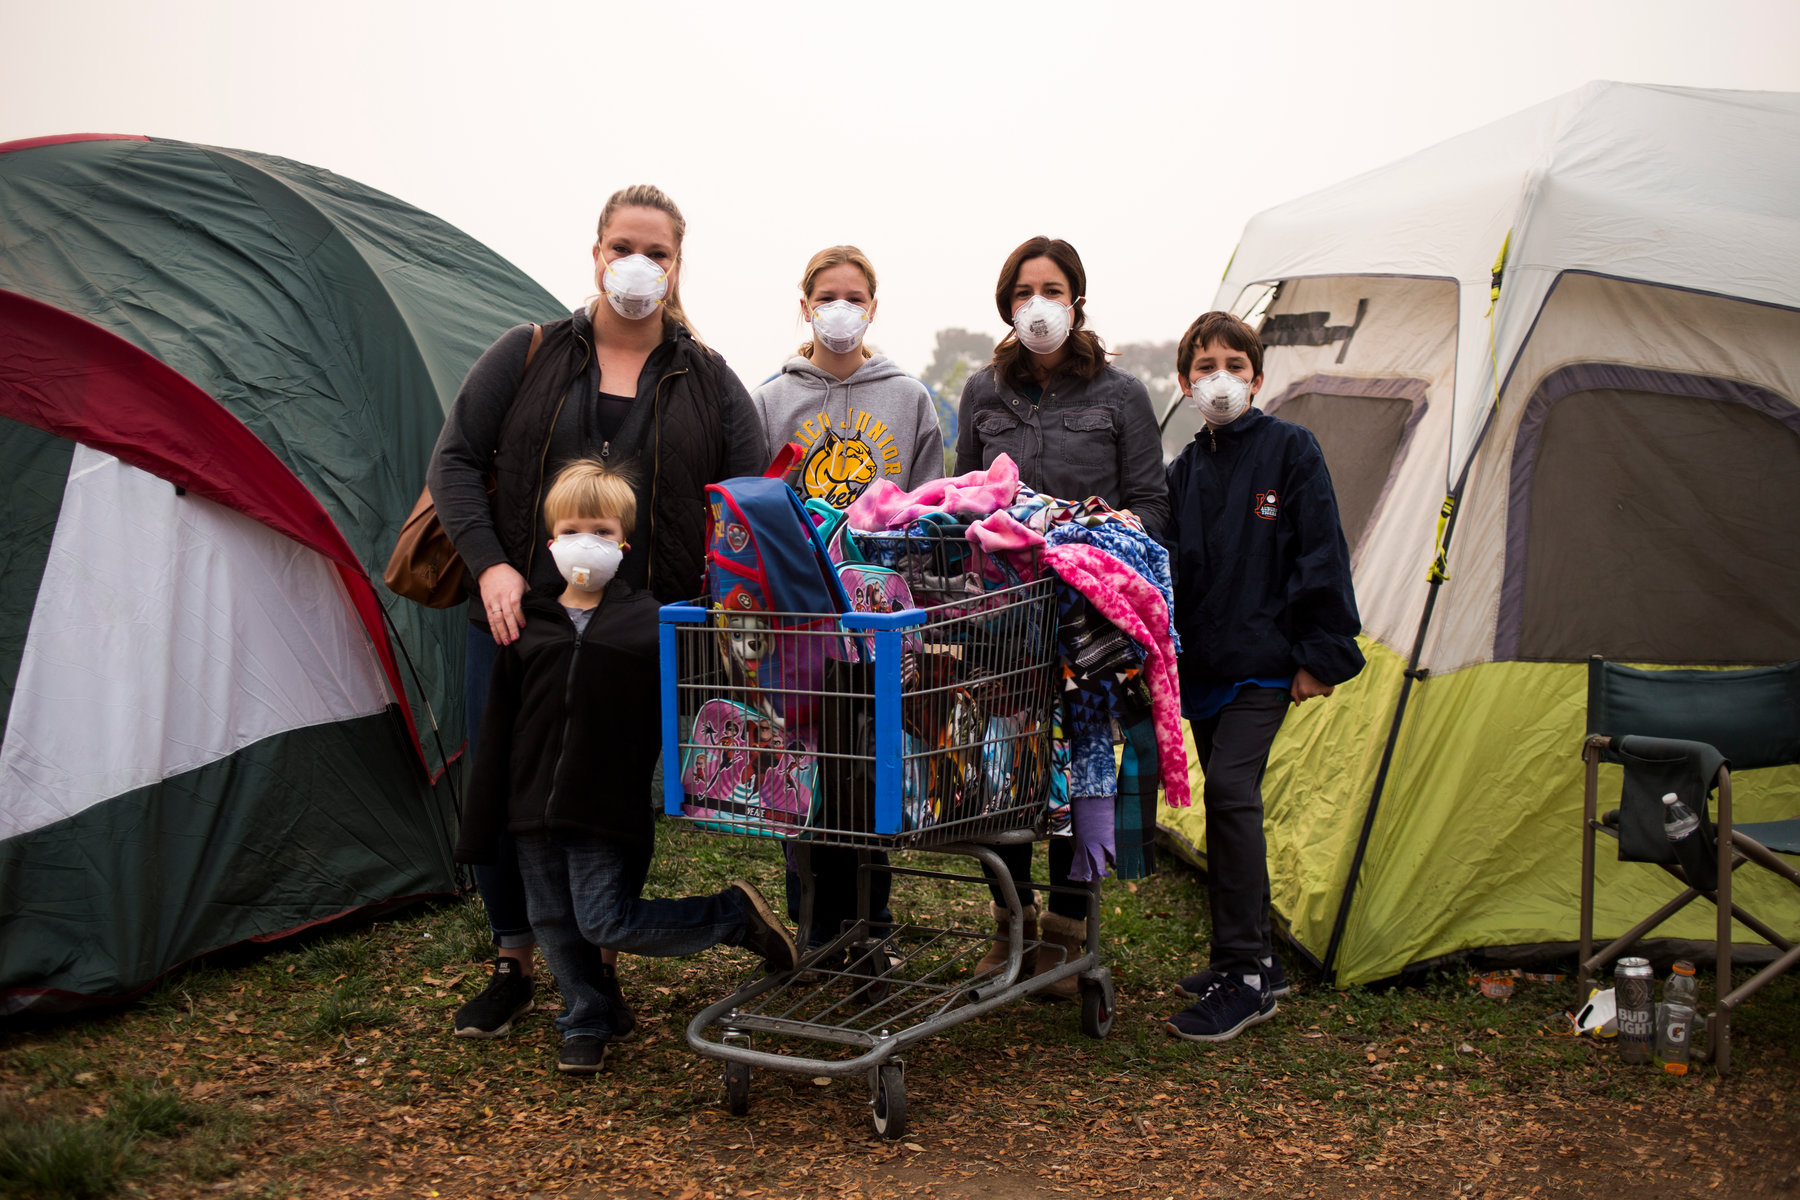n95: (596, 255, 670, 324), (548, 535, 622, 592), (1005, 295, 1074, 352), (1189, 368, 1250, 428), (804, 302, 869, 356)
